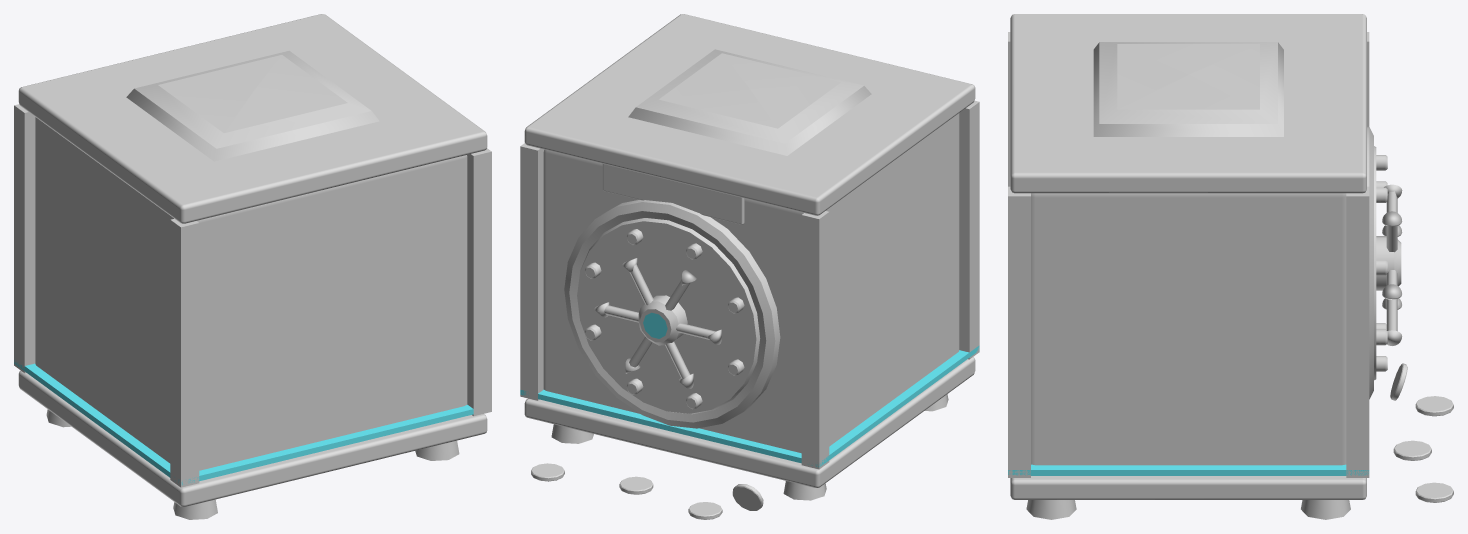
Rendered from VaultFuture.glb.
The picture shows the model from 3 angles, left to right: view 1: azimuth 30°, elevation 25°; view 2: azimuth 150°, elevation 25°; view 3: azimuth 270°, elevation 25°; orthographic projection. The views are drawn at different scales.
Visible parts, largest first — view 1: Body, Glow; view 2: Body, Glow; view 3: Body, Glow.
Boxes of the visible parts, left/top/right/bottom form: Body: left=14, top=14, right=491, bottom=519; Glow: left=14, top=360, right=473, bottom=485; Body: left=520, top=14, right=979, bottom=519; Glow: left=520, top=312, right=979, bottom=467; Body: left=1008, top=14, right=1453, bottom=519; Glow: left=1008, top=464, right=1369, bottom=475.
Size of the model in its own units: 8.5 by 9.04 by 9.75.
